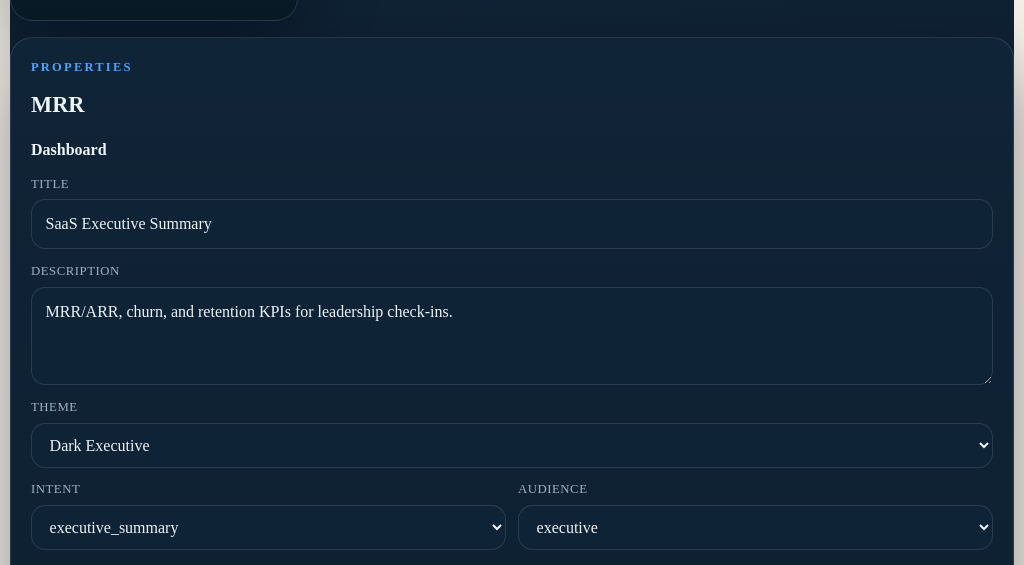
Scenario: BuilderShell › blocks improve-current generation until the active draft validates cleanly
(page scrolled)
Clear the field labelled "Title" at [512, 224], box [31,200,993,250]
(page scrolled)
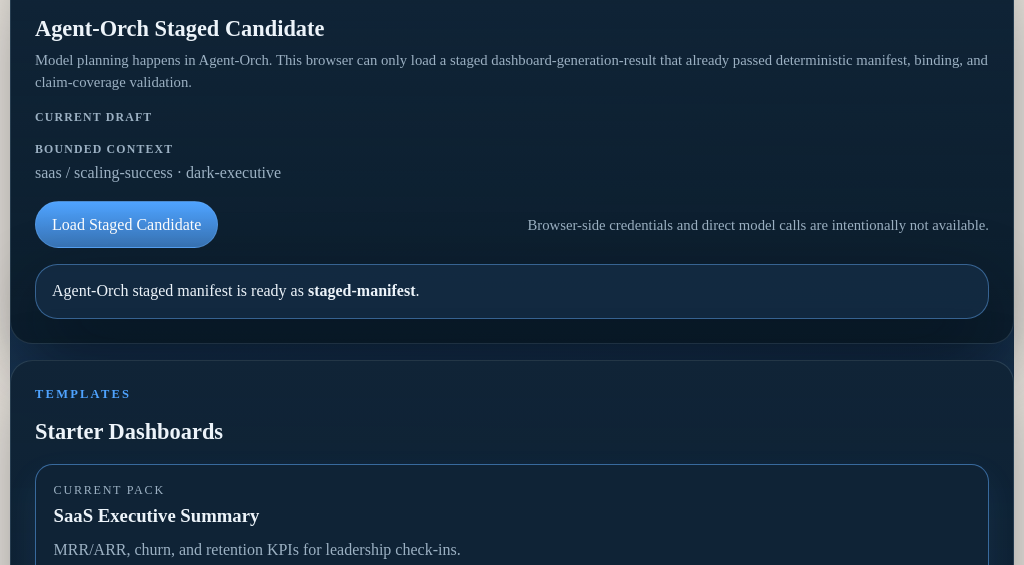
Click the button "Load Staged Candidate" at [127, 225], box [35,201,218,248]
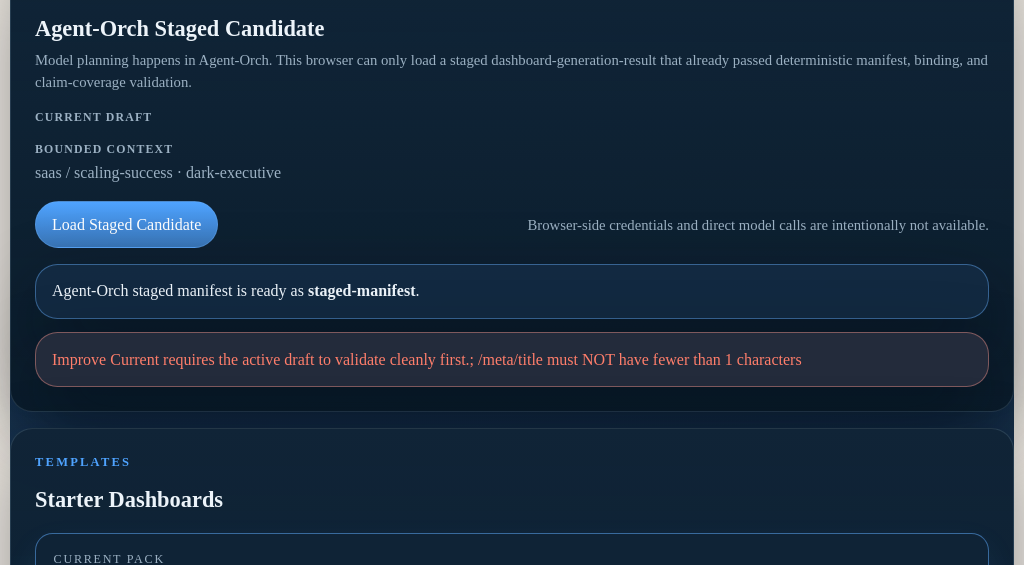
Expected: the text "Improve Current requires the active draft to validate cleanly first." is shown, [52,351,802,368]
